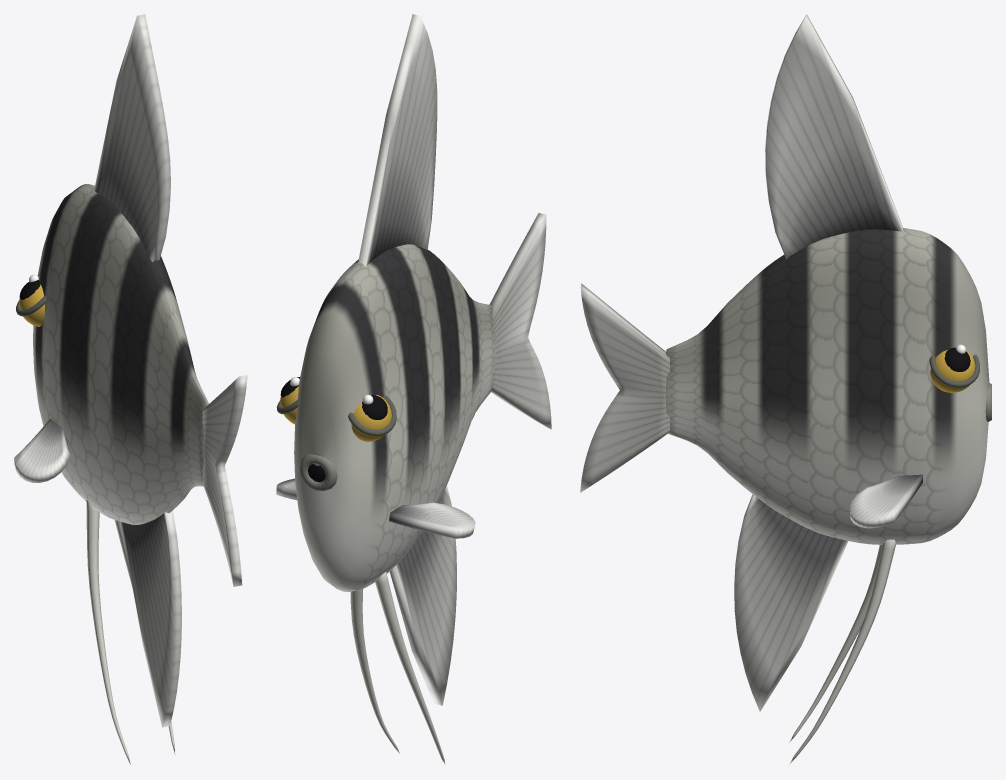
Rendered from Angelfish.glb.
3 views of the same model, side by side, from view 1: azimuth 30°, elevation 25°; view 2: azimuth 150°, elevation 25°; view 3: azimuth 270°, elevation 25° (orthographic). The views are drawn at different scales.
Parts seen in each view (by area): view 1: Angelfish; view 2: Angelfish; view 3: Angelfish.
Part boxes in pixels (x1,y1,x2,y2): Angelfish: (14,14,247,764); Angelfish: (276,14,551,765); Angelfish: (580,14,991,765).
Bounding box in the file's own units: 0.9221 × 3.5 × 1.77.
Materials: 1 (1 with a texture image).
